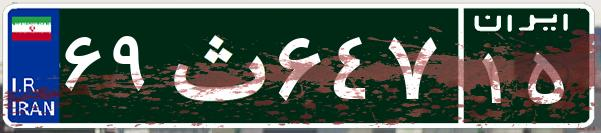1: (475, 38, 525, 113)
4: (330, 28, 385, 110)
5: (525, 38, 570, 115)
6: (273, 28, 330, 110), (57, 26, 110, 107)
7: (385, 28, 445, 110)
9: (110, 28, 158, 105)
ث: (158, 15, 273, 115)
